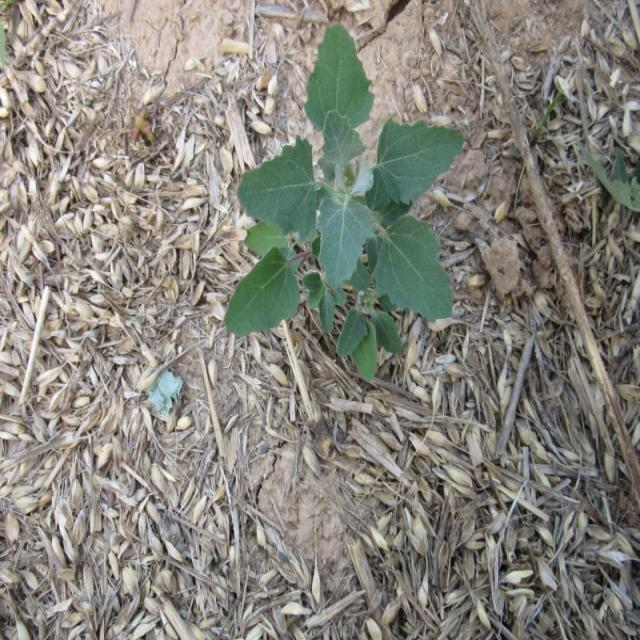ca: (230, 26, 458, 388)
